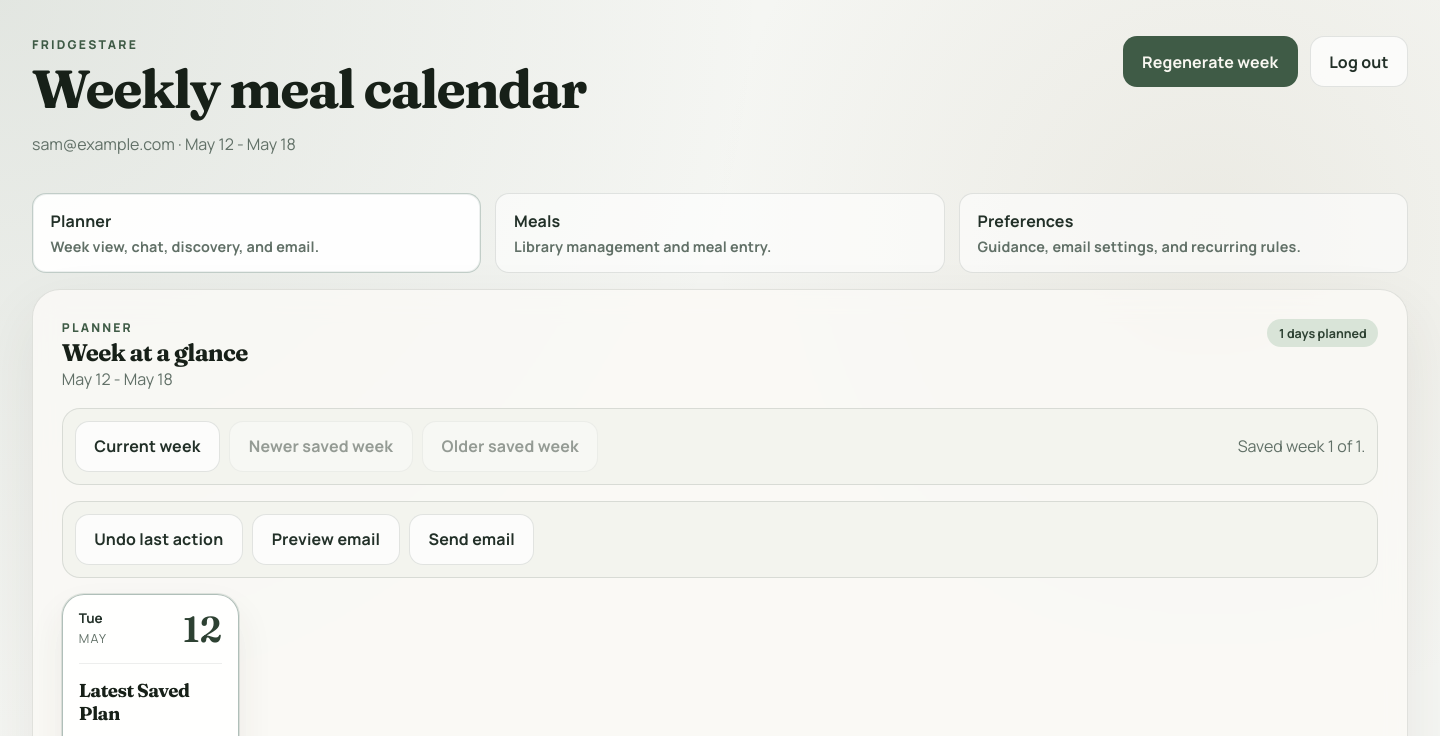
Test: App › shows planner actions only on the planner tab
Expected: the heading "Latest Saved Plan" is shown, [79,679,189,725]
Expected: the button "Regenerate week" is shown, [1122,36,1298,87]
Click the tab "Meals Library management and meal entry." at (537, 221), box [496,193,945,273]
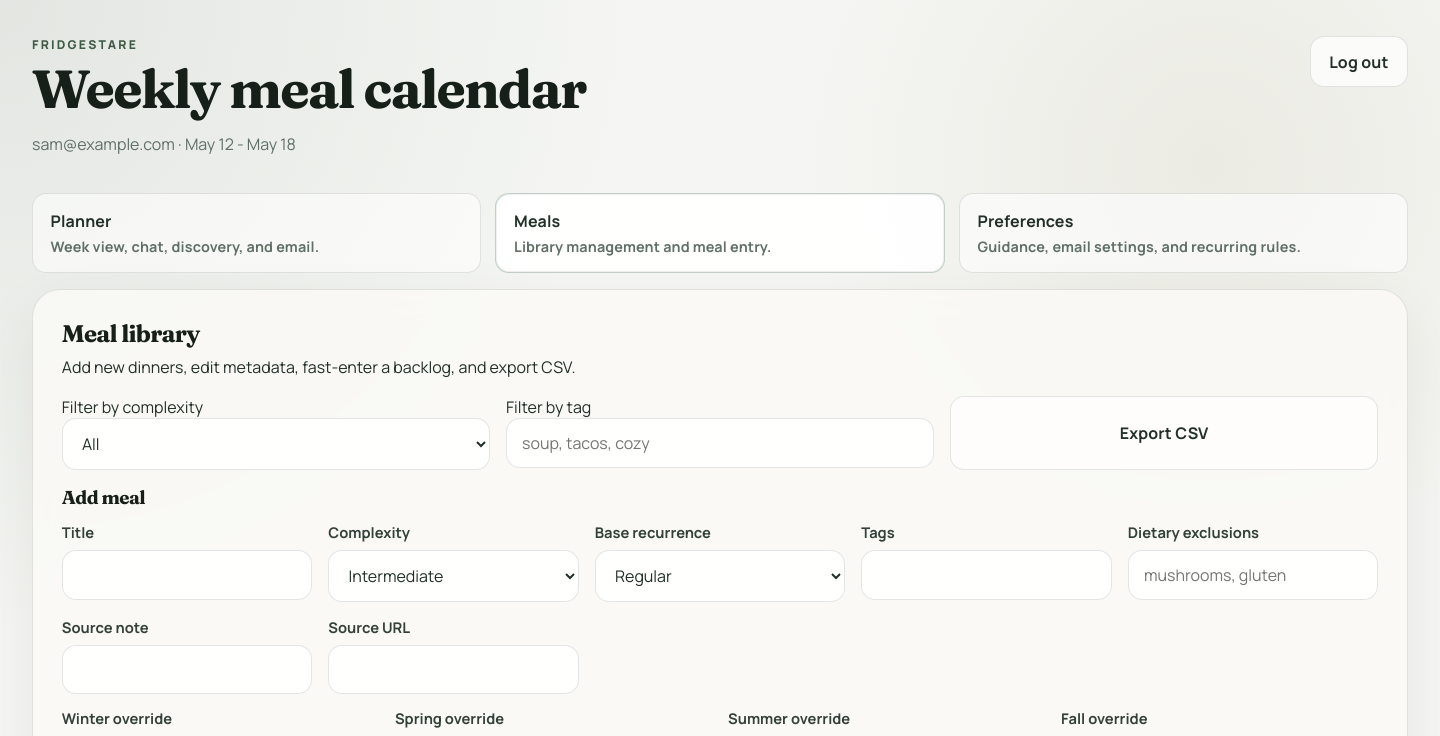
Expected: the button "Log out" is shown, [1310,36,1408,87]
Result: the button "generate week" is gone
Result: the button "Regenerate week" is gone
